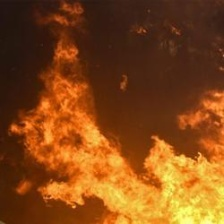fire: (7, 22, 224, 223)
